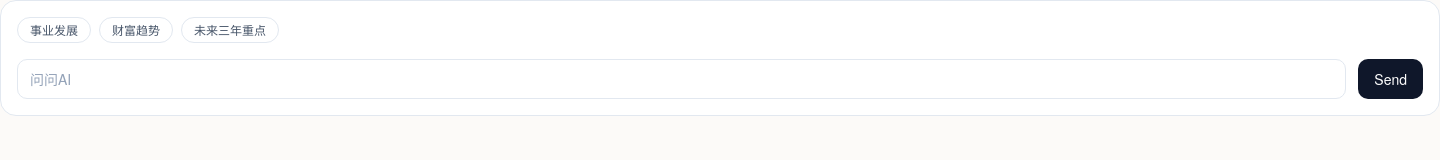
Test: ChatInput › fills input when suggestion is clicked
This screenshot has width=1440, height=160.
Click the button "事业发展" at (54, 30), box x1=17 y1=17 x2=91 y2=43
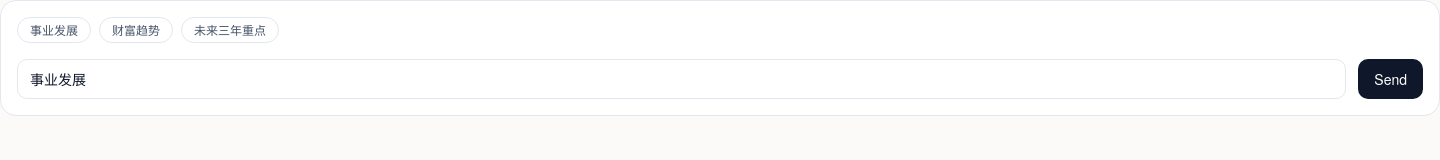
Expected: the field with placeholder "问问AI" holds "事业发展", x1=17 y1=59 x2=1346 y2=99
